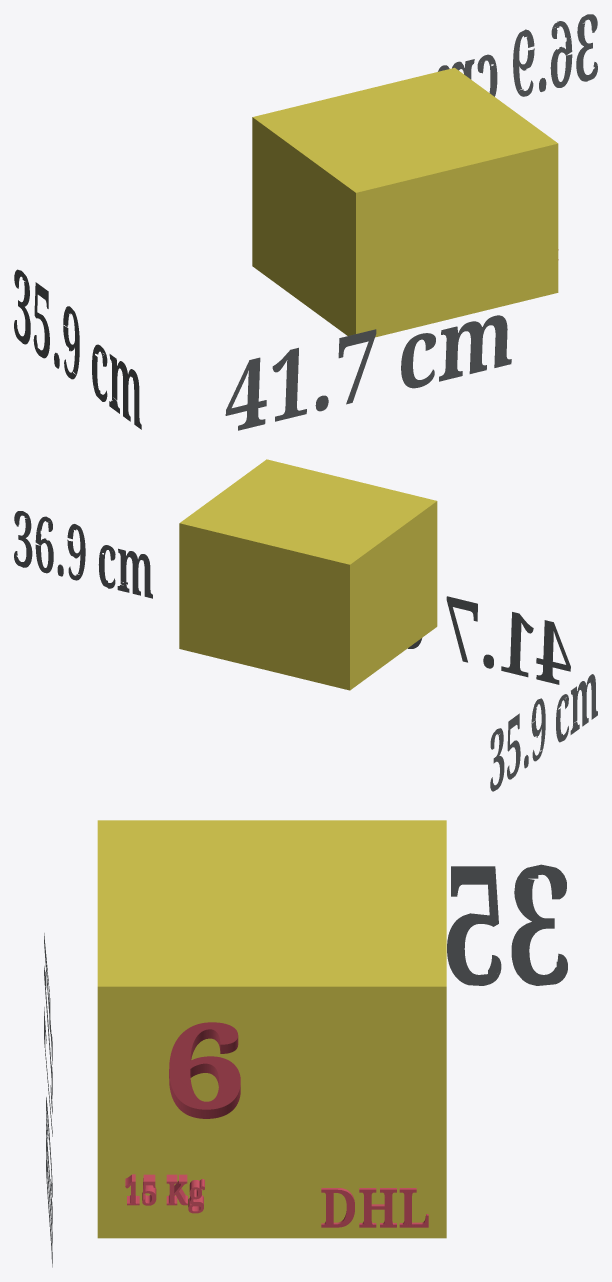
File: caja l.glb
The picture shows the model from 3 angles, top to bottom: view 1: azimuth 30°, elevation 25°; view 2: azimuth 150°, elevation 25°; view 3: azimuth 270°, elevation 25°; orthographic projection. The views are drawn at different scales.
Visible parts, largest first — view 1: Mesh_Mesh_head_geo.001_lambert2SG.001; view 2: Mesh_Mesh_head_geo.001_lambert2SG.001; view 3: Mesh_Mesh_head_geo.001_lambert2SG.001.
Boxes of the visible parts, <box> form: Mesh_Mesh_head_geo.001_lambert2SG.001: <box>14,14,597,430</box>; Mesh_Mesh_head_geo.001_lambert2SG.001: <box>14,459,597,791</box>; Mesh_Mesh_head_geo.001_lambert2SG.001: <box>44,820,567,1267</box>.
Bounding box in the file's own units: 125 × 40.98 × 58.56.
